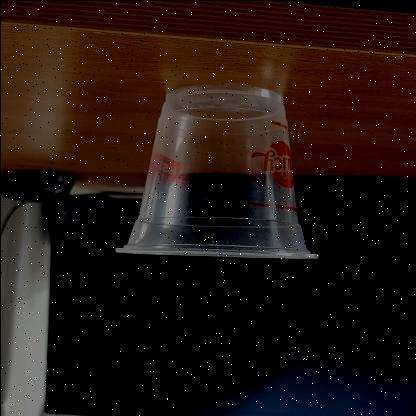Others: (111, 86, 319, 260)
